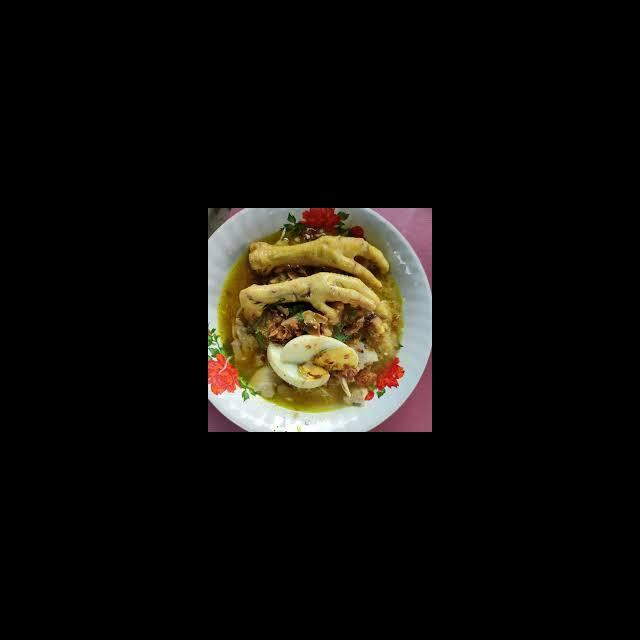Soto: (228, 225, 404, 406)
